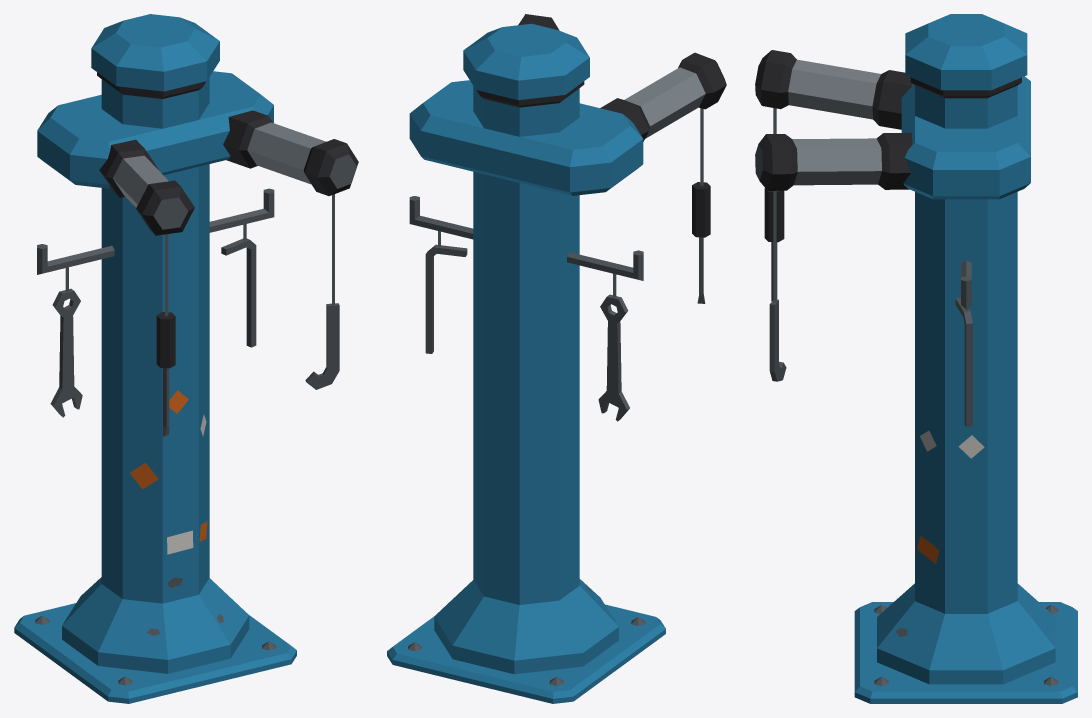
The model's file is bike-repair-post-1517f2.glb.
3 views of the same model, side by side, from view 1: azimuth 30°, elevation 25°; view 2: azimuth 150°, elevation 25°; view 3: azimuth 270°, elevation 25° (orthographic). The views are drawn at different scales.
Visible parts, largest first — view 1: bike-repair-post; view 2: bike-repair-post; view 3: bike-repair-post.
Boxes of the visible parts, box(x1,y1,x2,y2) form: bike-repair-post: box(14, 14, 358, 703); bike-repair-post: box(387, 14, 726, 703); bike-repair-post: box(755, 14, 1077, 703).
Size of the model in its own units: 0.628 by 1.55 by 0.7233.
